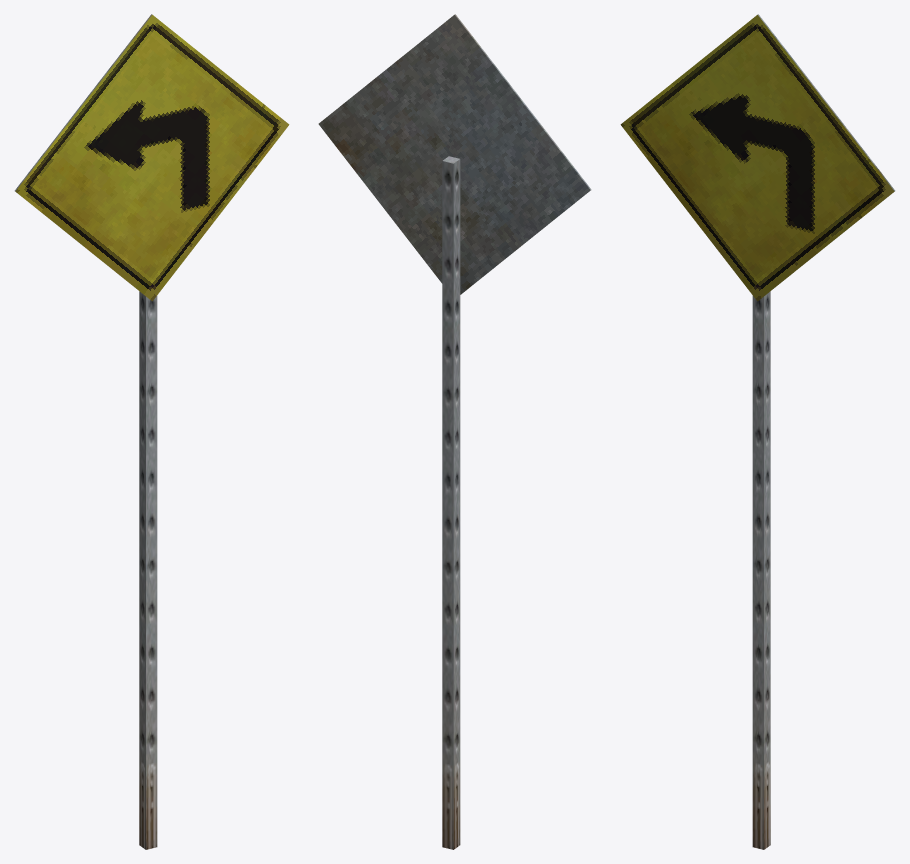
Rendered from rightturnahead.fbx.
3 views of the same model, side by side, from view 1: azimuth 30°, elevation 25°; view 2: azimuth 150°, elevation 25°; view 3: azimuth 330°, elevation 25° (orthographic).
Parts seen in each view (by area): view 1: mesh_2, mesh_0; view 2: mesh_1, mesh_0; view 3: mesh_2, mesh_0.
Part boxes in pixels (x1,y1,x2,y2): mesh_2: (15,15,289,301); mesh_0: (139,291,157,849); mesh_1: (318,14,591,294); mesh_0: (442,156,460,849); mesh_2: (620,15,894,301); mesh_0: (752,291,770,849).
Size of the model in its own units: 107 by 312 by 5.06.
Materials: 3 (3 with a texture image).
